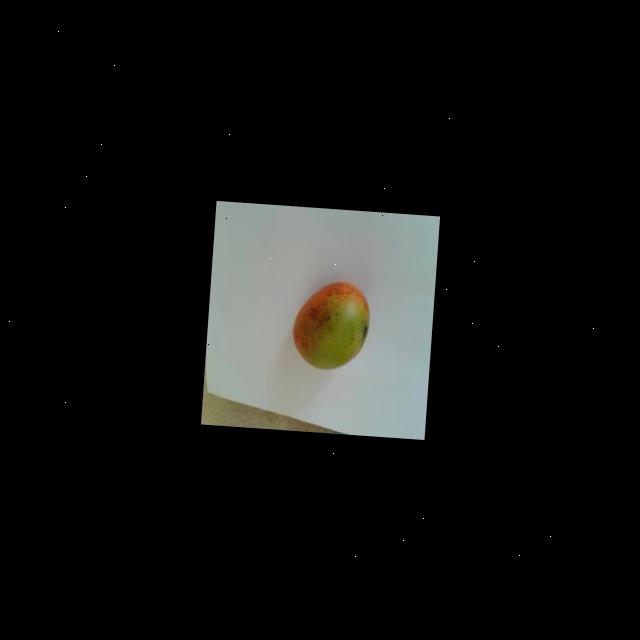Mango: (290, 278, 372, 374)
